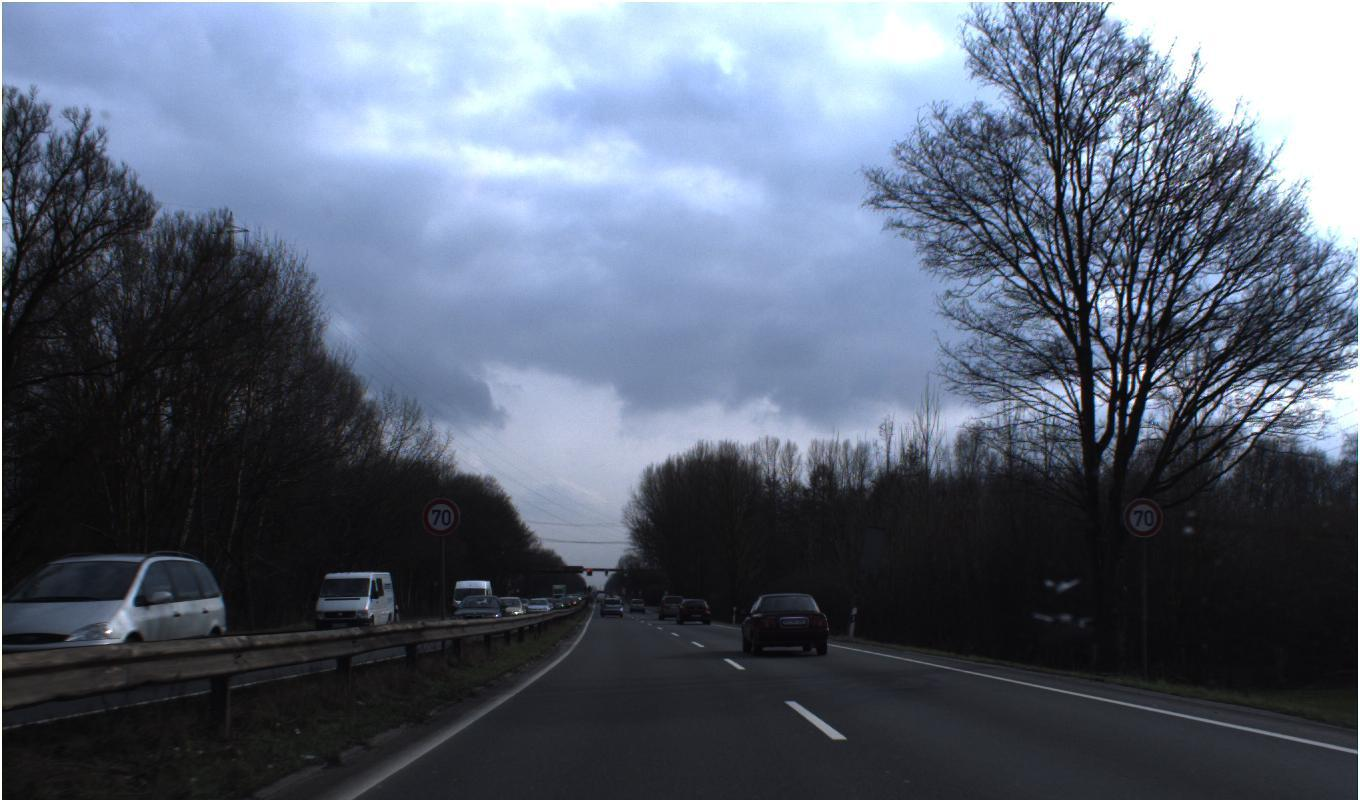speed limit 70 (prohibitory): (420, 496, 461, 537), (1122, 497, 1163, 538)
